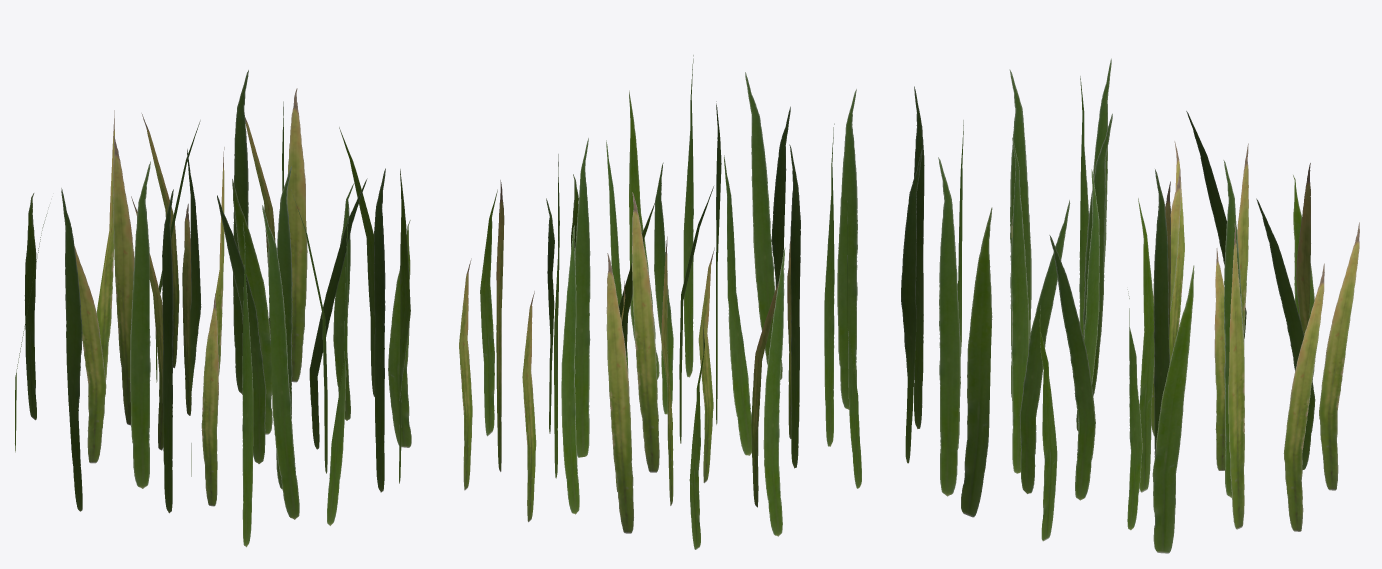
The model's file is Herbe_Maureen_1.fbx.
3 views of the same model, side by side, from view 1: azimuth 30°, elevation 25°; view 2: azimuth 150°, elevation 25°; view 3: azimuth 270°, elevation 25° (orthographic). The views are drawn at different scales.
Visible parts, largest first — view 1: Herbe_1; view 2: Herbe_1; view 3: Herbe_1.
Boxes of the visible parts, x1=… form: Herbe_1: x1=15, y1=70, x2=411, y2=547; Herbe_1: x1=459, y1=55, x2=861, y2=549; Herbe_1: x1=901, y1=58, x2=1359, y2=553.
Size of the model in its own units: 11.69 by 11.95 by 13.22.
